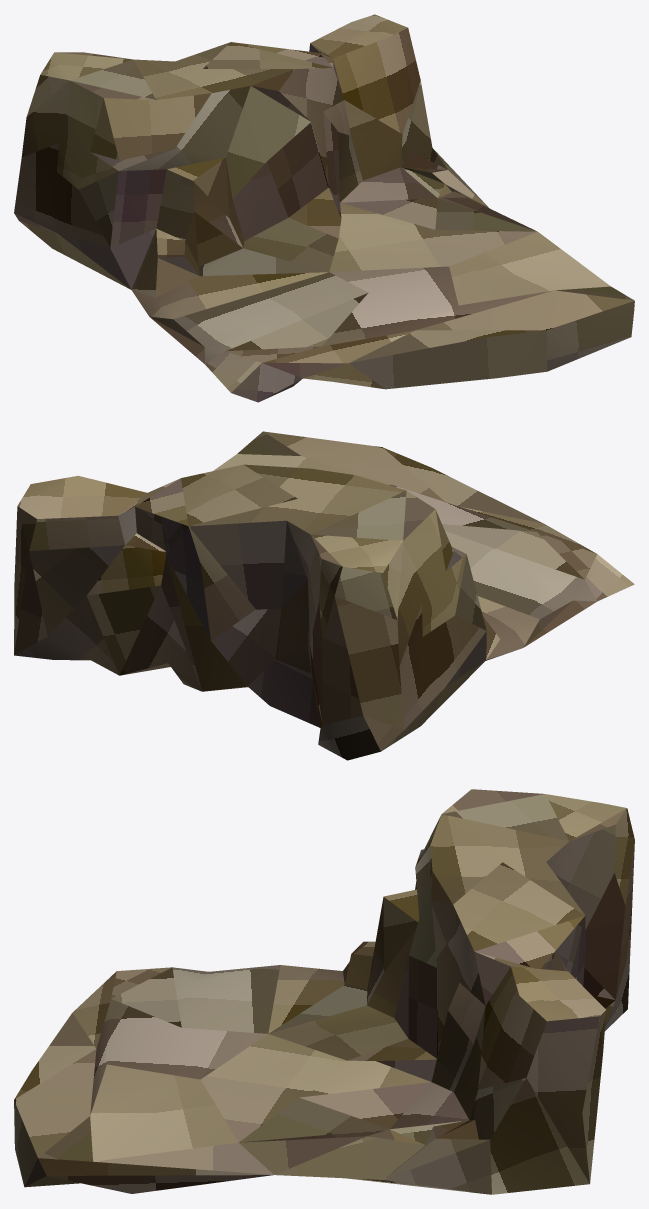
Rendered from cliff-block.collision.glb.
3 renders of one model, top to bottom at view 1: azimuth 30°, elevation 25°; view 2: azimuth 150°, elevation 25°; view 3: azimuth 270°, elevation 25°, orthographic. The views are drawn at different scales.
Visible parts, largest first — view 1: output_unwrapped; view 2: output_unwrapped; view 3: output_unwrapped.
Part boxes in pixels (x1,y1,x2,y2): output_unwrapped: (14, 14, 634, 402); output_unwrapped: (14, 431, 634, 760); output_unwrapped: (14, 789, 634, 1194).
Size of the model in its own units: 1.55 by 0.7411 by 1.89.
1 material, 1 textured.
